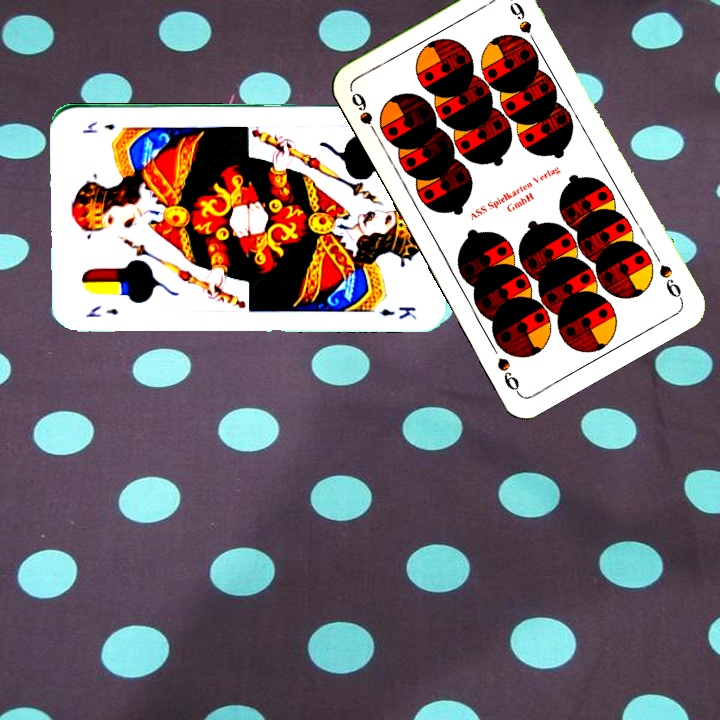EK: (81, 301, 120, 319)
S9: (347, 88, 383, 142), (655, 260, 686, 304)
